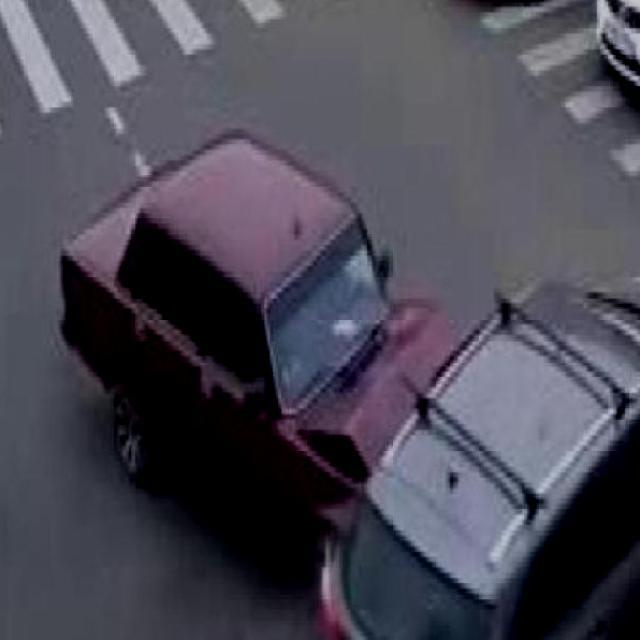accident: (57, 129, 640, 640)
